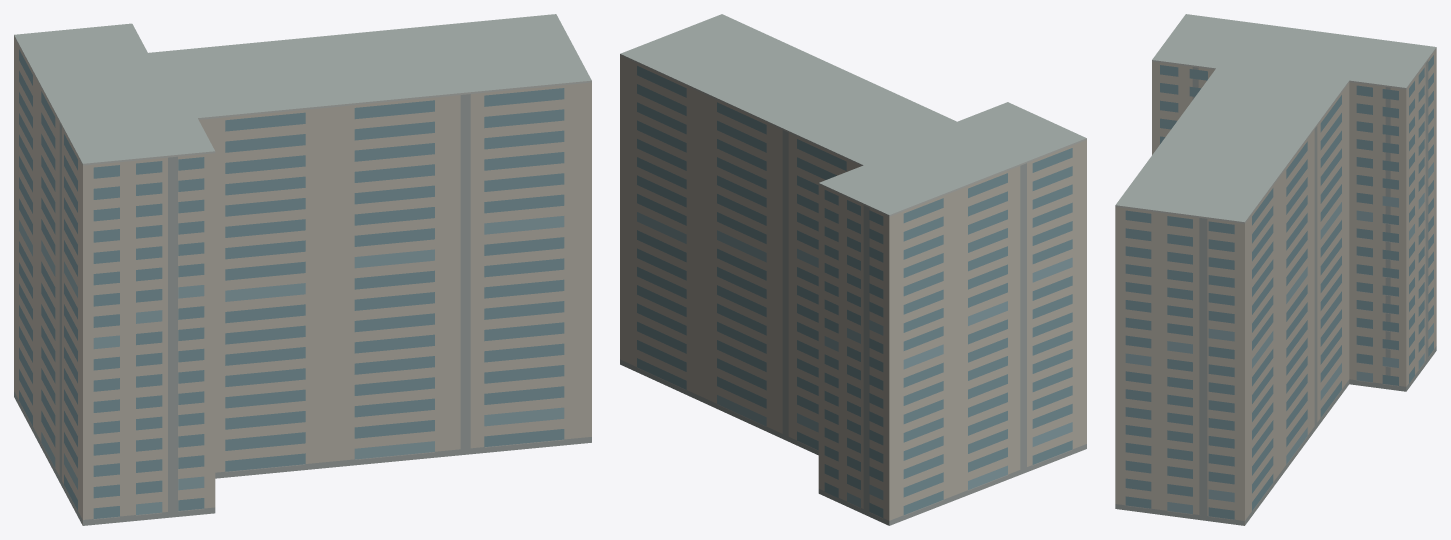
Rendered from residential-799c5f23-6b88-47b7-8f0a-ceea21417115.glb.
The picture shows the model from 3 angles, left to right: view 1: azimuth 30°, elevation 25°; view 2: azimuth 150°, elevation 25°; view 3: azimuth 270°, elevation 25°; orthographic projection. The views are drawn at different scales.
Parts seen in each view (by area): view 1: residential-799c5f23-6b88-47b7-8f0a-ceea21417115.tmp; view 2: residential-799c5f23-6b88-47b7-8f0a-ceea21417115.tmp; view 3: residential-799c5f23-6b88-47b7-8f0a-ceea21417115.tmp.
Part boxes in pixels (x1=…): residential-799c5f23-6b88-47b7-8f0a-ceea21417115.tmp: x1=14, y1=14, x2=591, y2=525; residential-799c5f23-6b88-47b7-8f0a-ceea21417115.tmp: x1=620, y1=14, x2=1086, y2=525; residential-799c5f23-6b88-47b7-8f0a-ceea21417115.tmp: x1=1115, y1=14, x2=1436, y2=525.
Size of the model in its own units: 69.1 by 47 by 45.06.
